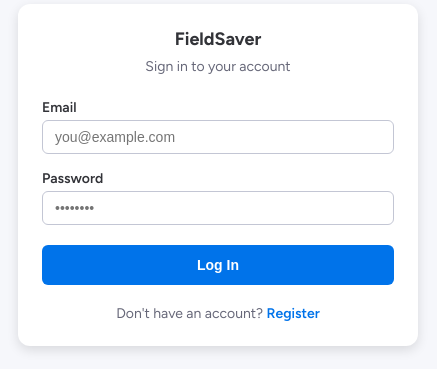
Test case: LoginPage › should show loading text while submitting
In the field with placeholder "you@example.com": (218, 137) [42,120,394,154], type "user@example.com"
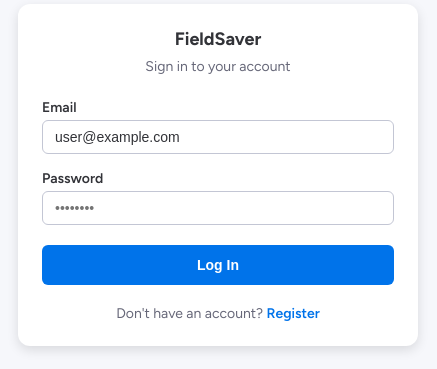
In the password field with placeholder "••••••••": (218, 208) [42,191,394,225], type "mypassword"
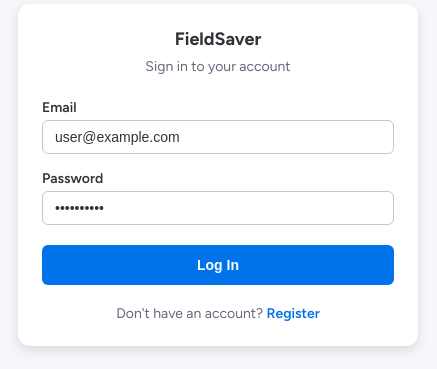
Click the button "Log In": (218, 265) [42,245,394,285]
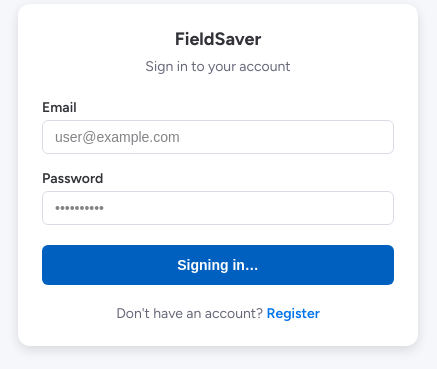
Check: the button "Signing in…" is shown, box [42,245,394,285]
